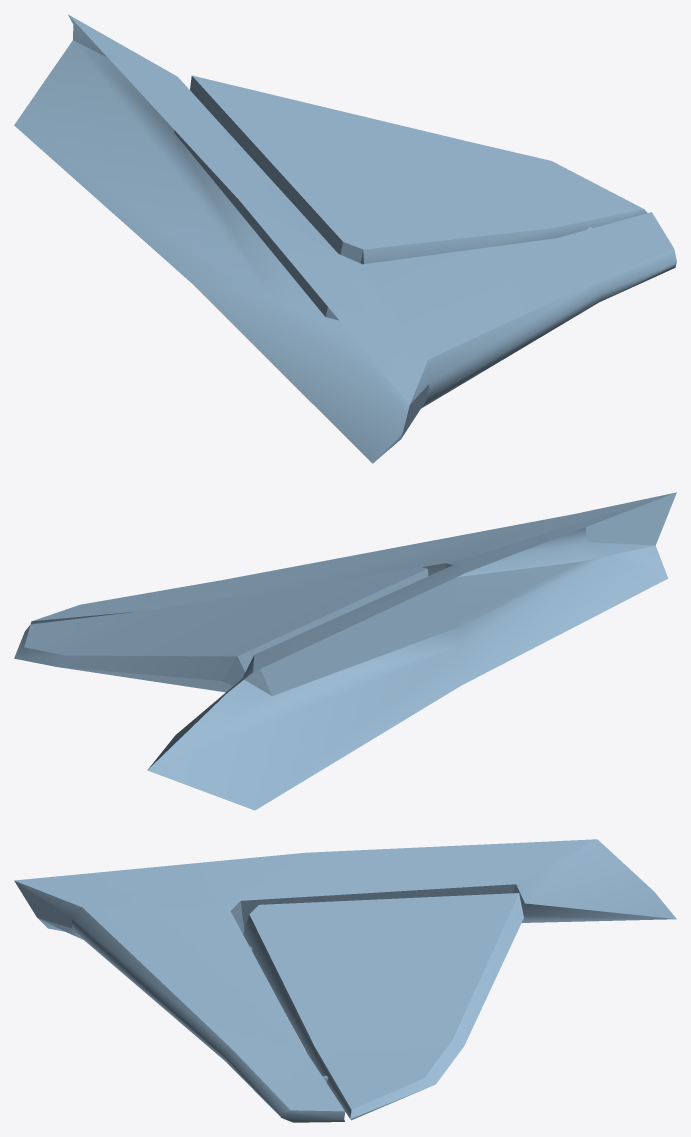
File: nose wing L.FBX
3 views of the same model, one above another, from view 1: azimuth 30°, elevation 25°; view 2: azimuth 150°, elevation 25°; view 3: azimuth 270°, elevation 25° (orthographic). The views are drawn at different scales.
Parts seen in each view (by area): view 1: Group21; view 2: Group21; view 3: Group21.
Boxes of the visible parts, x1,y1,x2,y2 form: Group21: [14, 14, 676, 463]; Group21: [14, 492, 676, 810]; Group21: [14, 839, 676, 1122].
Bounding box in the file's own units: 0.0581 × 0.0939 × 0.0224.
